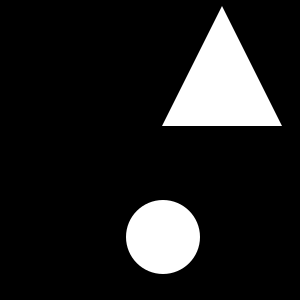rectangle: (126, 200, 200, 274)
triangle: (162, 6, 282, 126)
